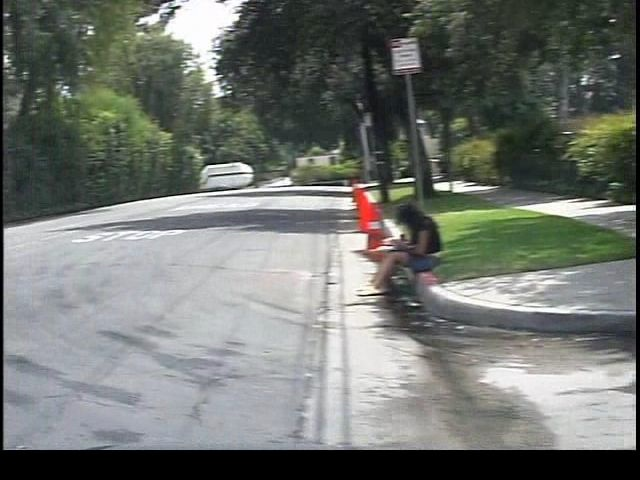person: (340, 197, 433, 297)
